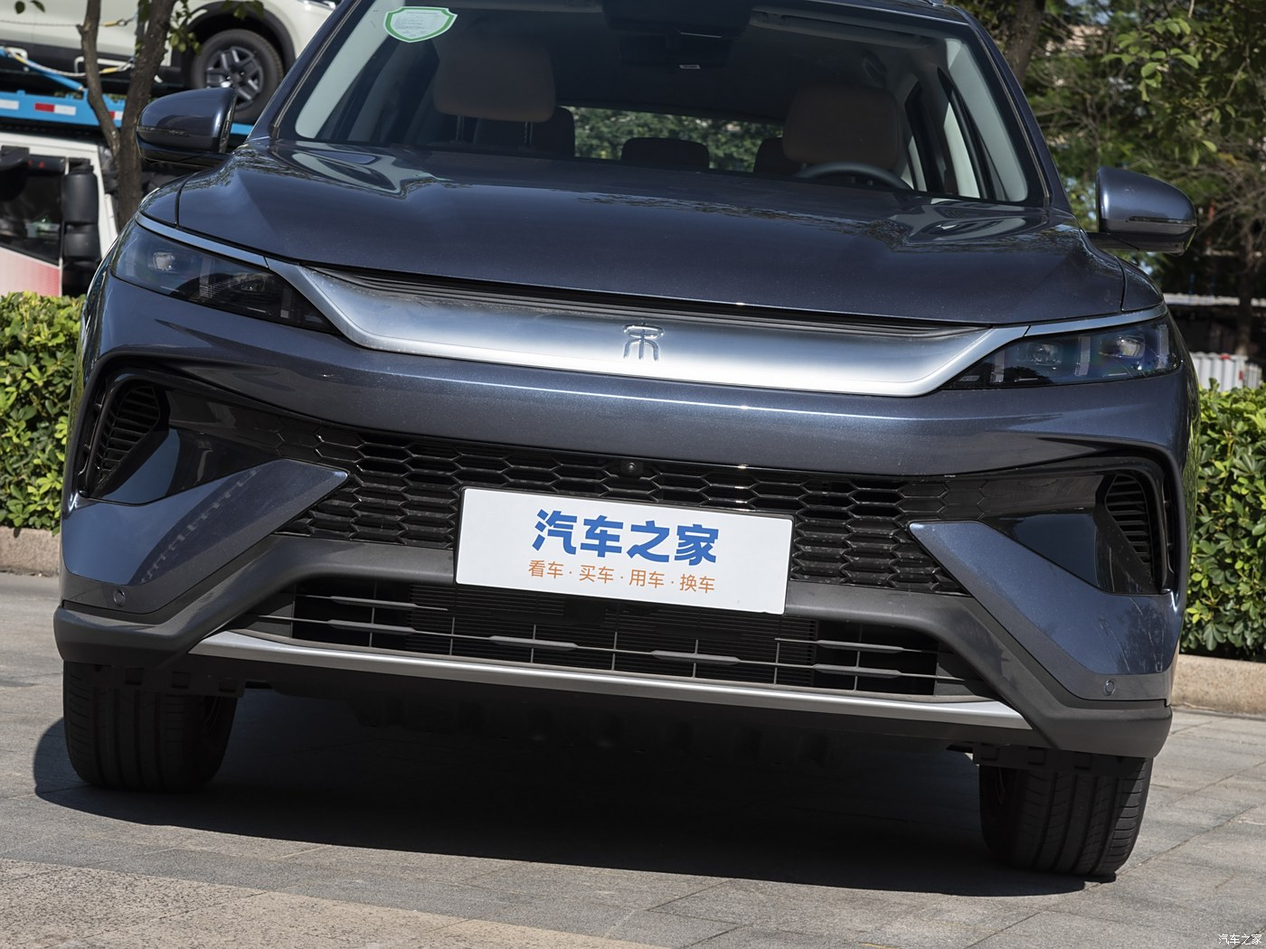BYD Song: (624, 323, 664, 361)
